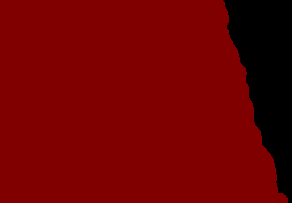Sky: (1, 1, 287, 202)
